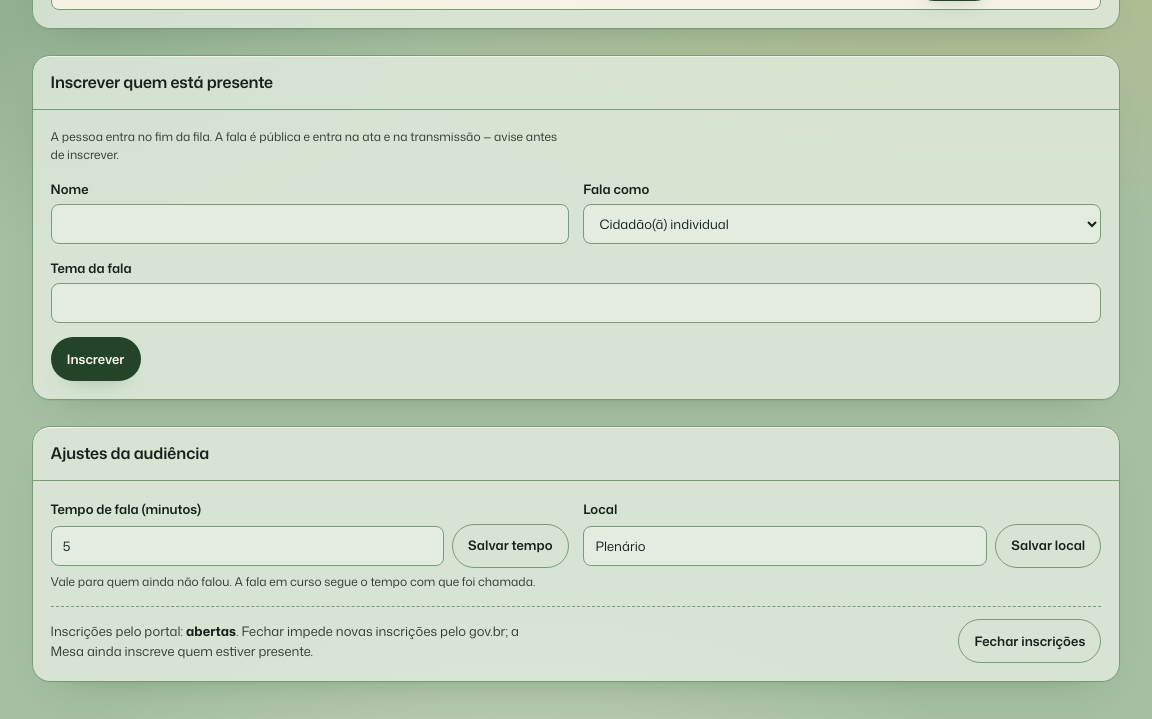
Test: Mesa da audiência pública › inscrição presencial: confere o nome antes e manda o corpo kebab
The image size is (1152, 719).
(page scrolled)
Click the button "Inscrever" at (96, 359), box x1=51 y1=337 x2=141 y2=381
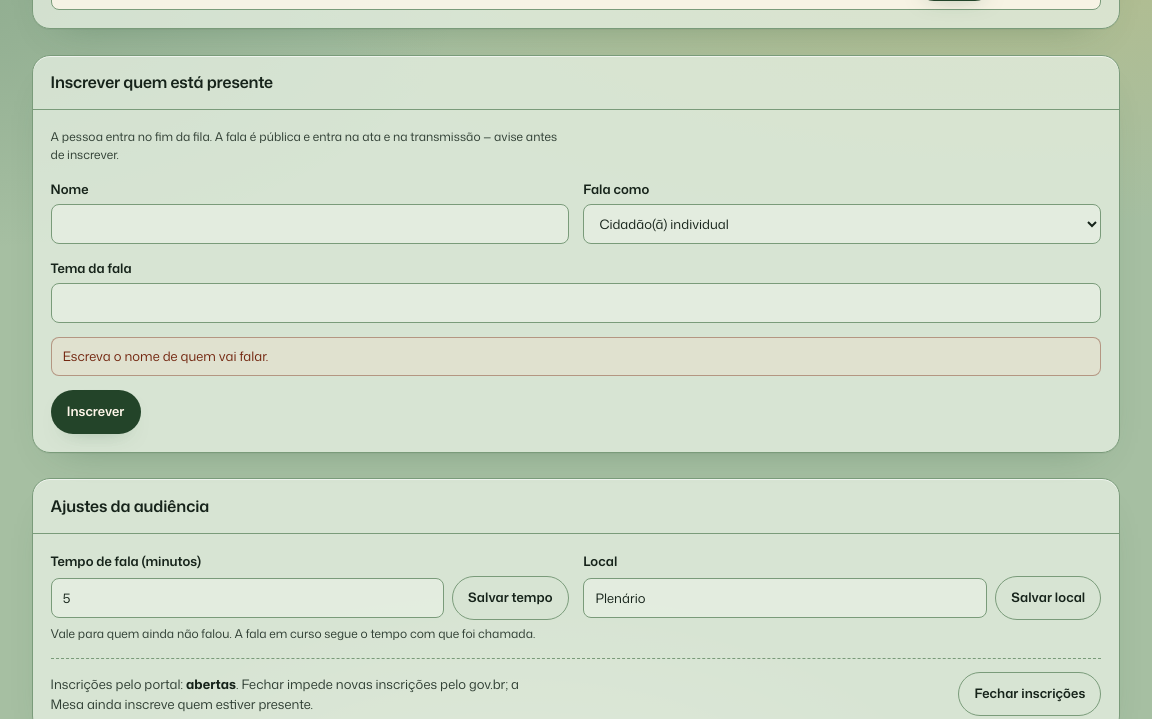
Now the message shows "nome", box x1=63 y1=347 x2=268 y2=365
Type "Maria" into the field labelled "Nome" at (310, 224), box x1=51 y1=204 x2=569 y2=244
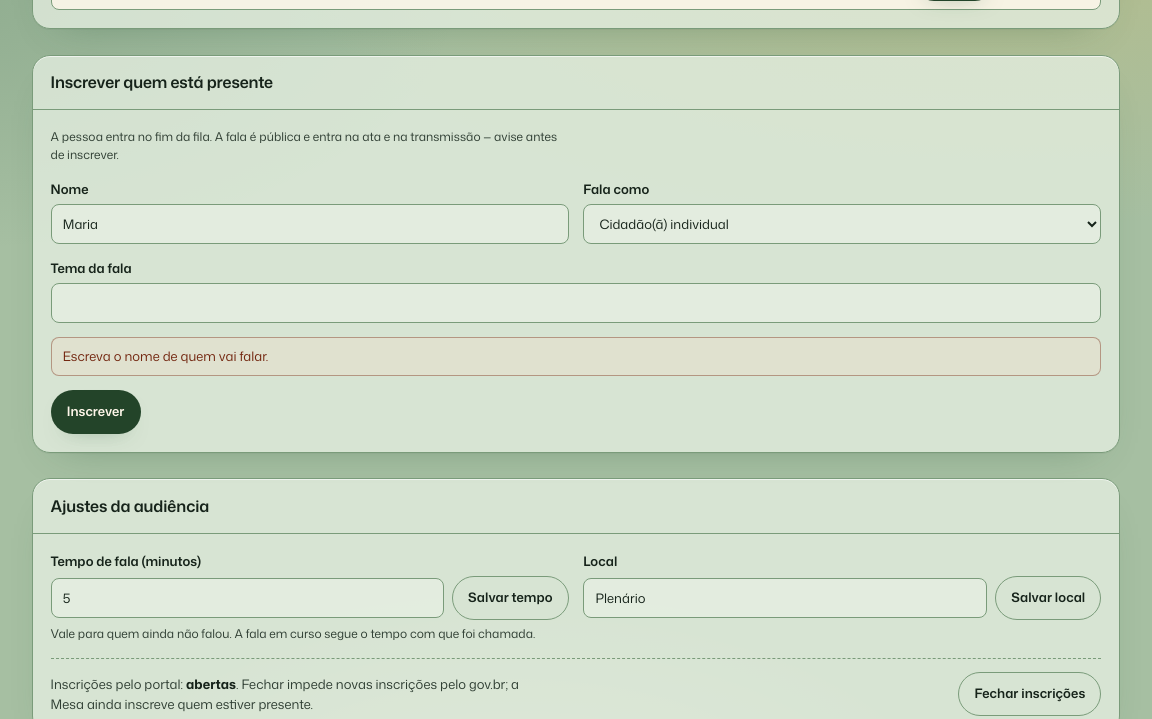
Select "Conselho ou movimento" in the dropdown labelled "Fala como" at (842, 224), box x1=583 y1=204 x2=1101 y2=244
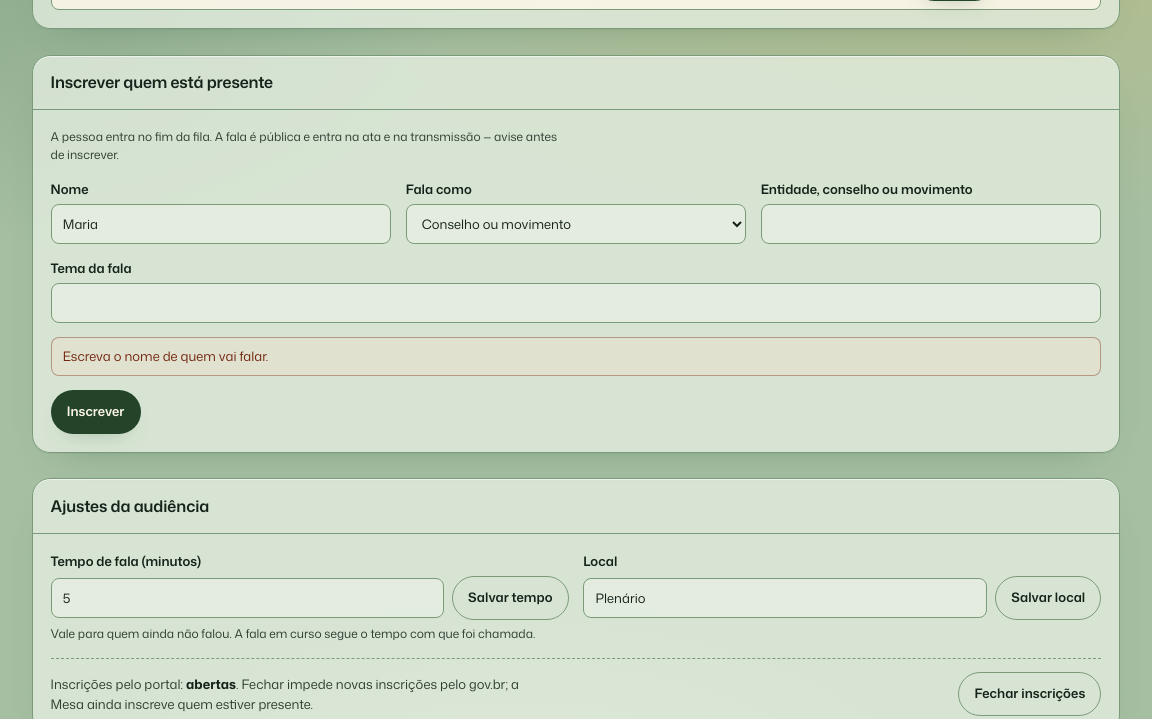
Type "Conselho de Saúde" into the field labelled "Entidade, conselho ou movimento" at (931, 224), box x1=761 y1=204 x2=1101 y2=244
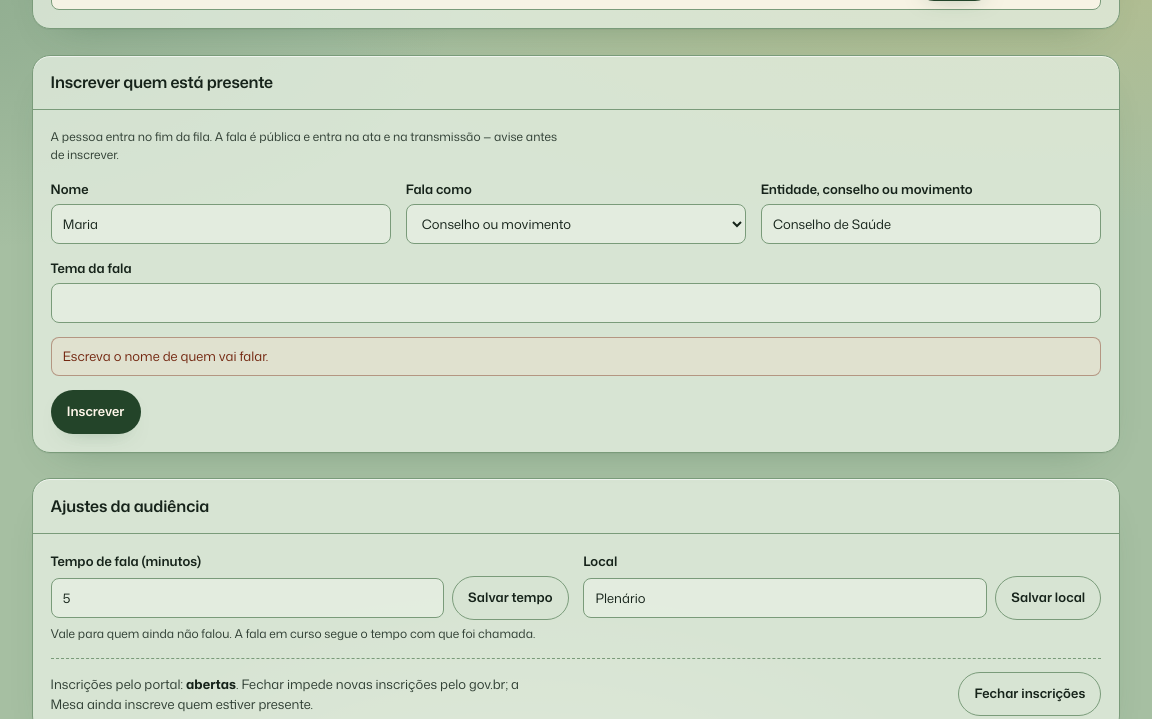
Type "Postos de saúde" into the field labelled "Tema da fala" at (576, 303), box x1=51 y1=283 x2=1101 y2=323
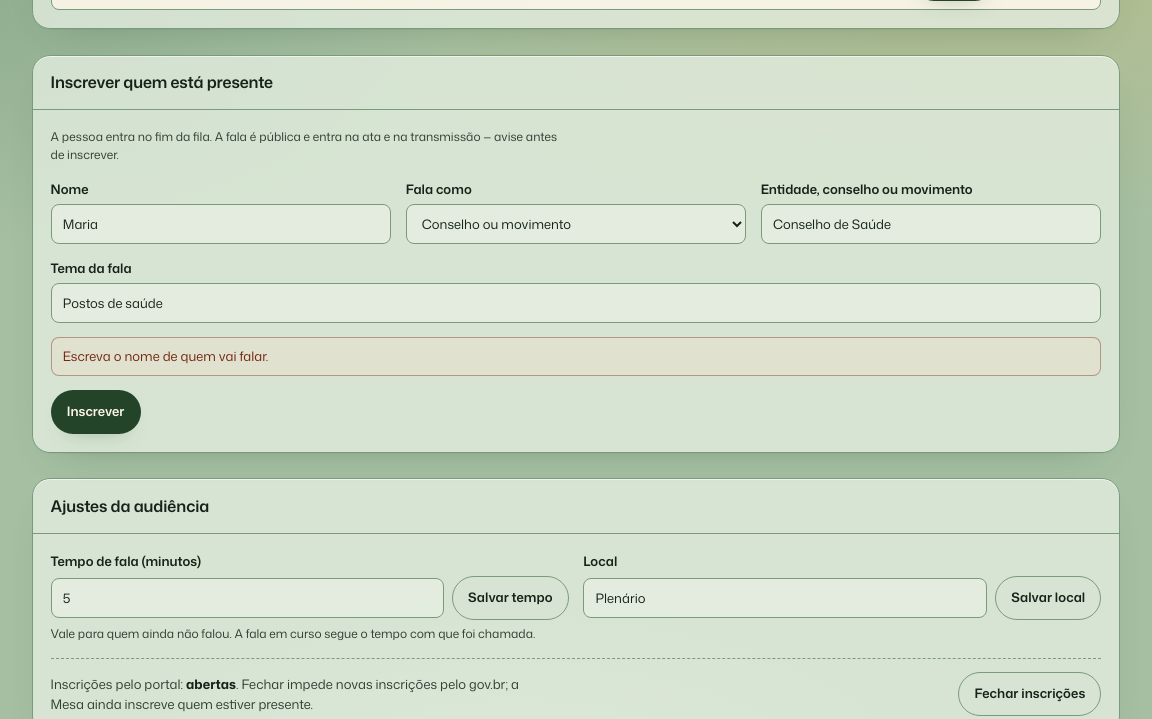
Click the button "Inscrever" at (96, 412), box x1=51 y1=390 x2=141 y2=434
(page scrolled)
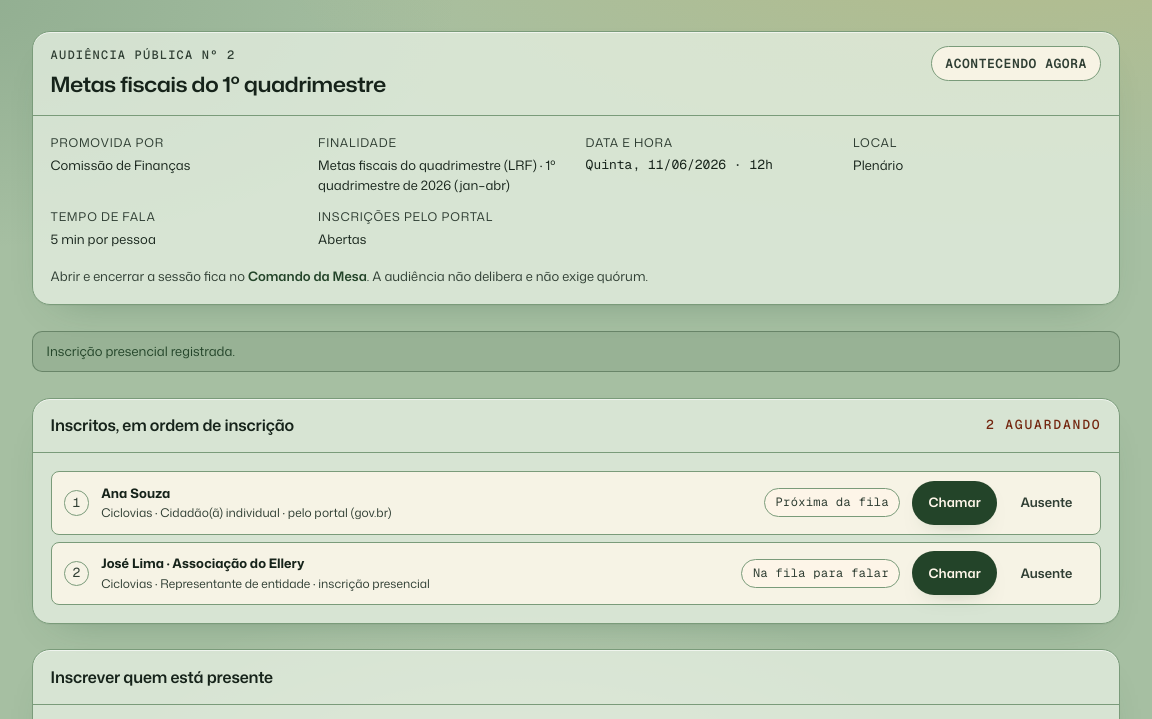
Now the text "Inscrição presencial registrada." is shown, box x1=32 y1=331 x2=1120 y2=372
